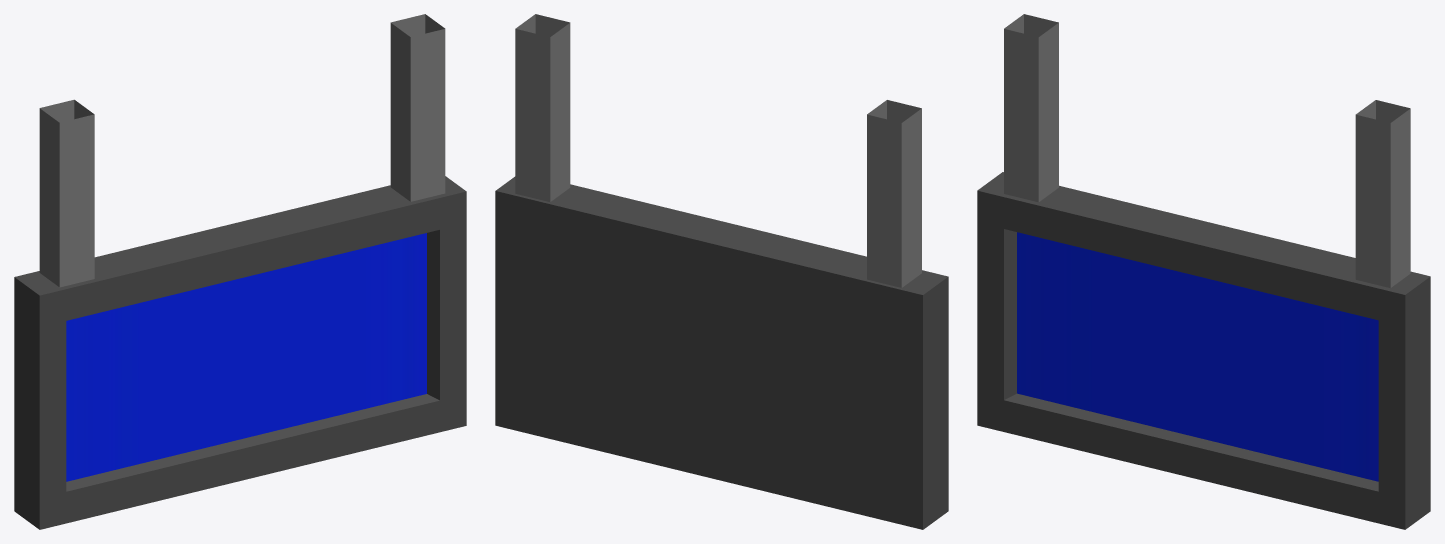
The model's file is SM_Screen_2.fbx.
3 views of the same model, side by side, from view 1: azimuth 30°, elevation 25°; view 2: azimuth 150°, elevation 25°; view 3: azimuth 330°, elevation 25° (orthographic).
Visible parts, largest first — view 1: SM_Screen_2; view 2: SM_Screen_2; view 3: SM_Screen_2.
Boxes of the visible parts, x1,y1,x2,y2 form: SM_Screen_2: [14, 14, 466, 529]; SM_Screen_2: [495, 14, 948, 529]; SM_Screen_2: [977, 14, 1430, 529].
Size of the model in its own units: 154 by 138 by 15.91.
1 material, 1 textured.
